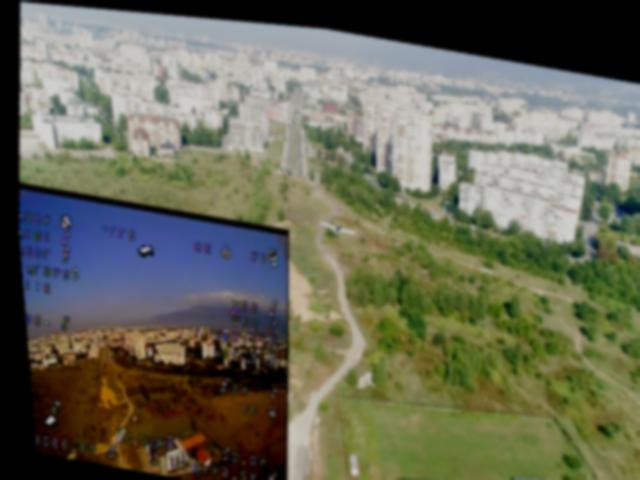plane: (316, 213, 354, 234)
